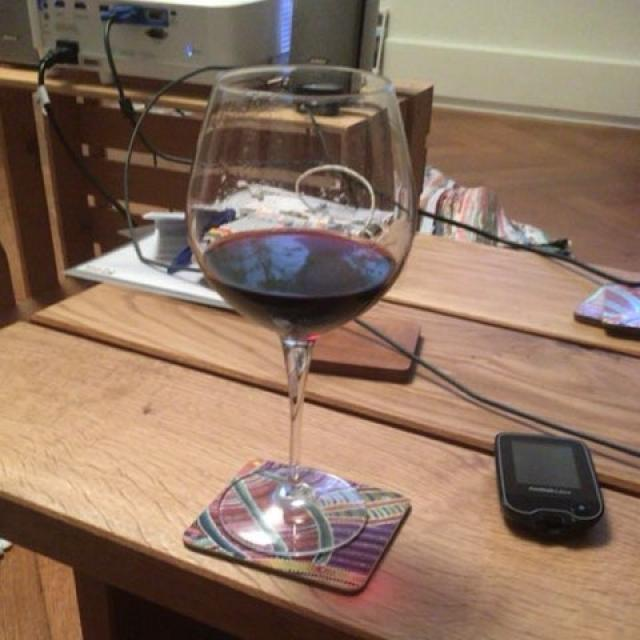wine: (199, 195, 398, 335)
